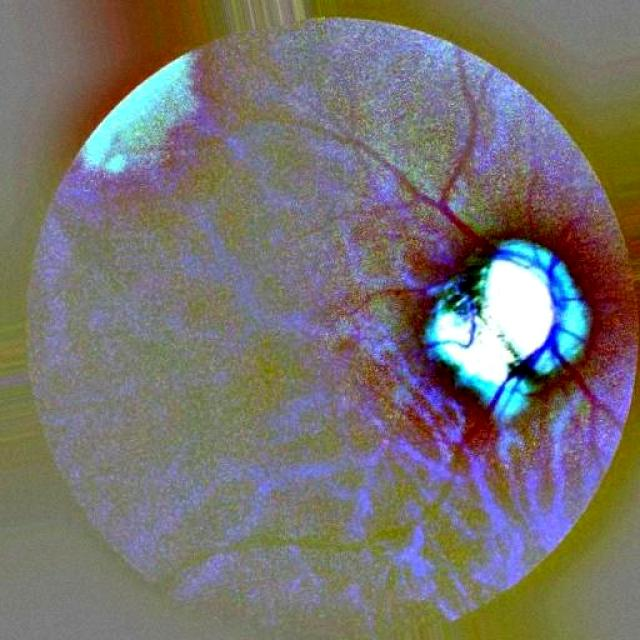Nerves: (266, 47, 494, 253), (488, 248, 619, 433)
Optic Disk: (425, 240, 590, 420)
